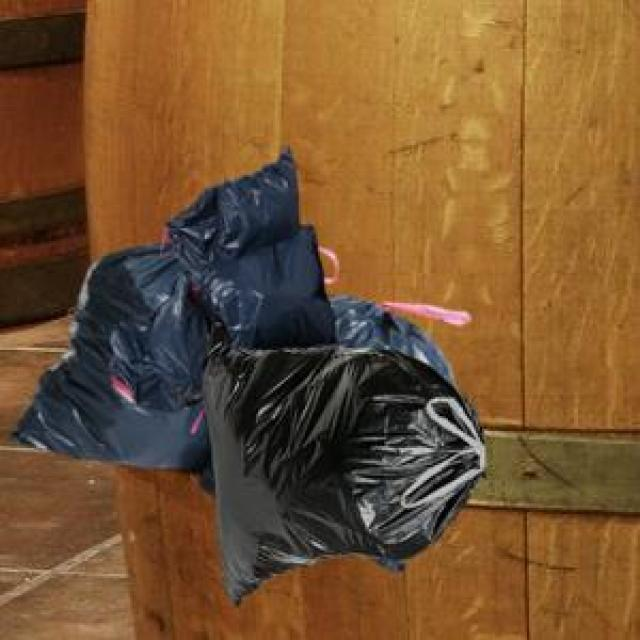miscellaneous trash: (4, 239, 465, 568), (198, 307, 480, 602), (107, 143, 350, 429)
